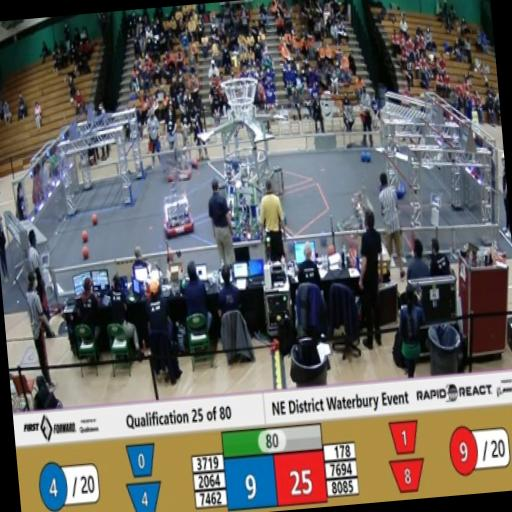robot: (332, 182, 382, 262), (217, 178, 267, 258), (158, 184, 197, 246), (161, 140, 198, 192), (374, 158, 410, 210)
